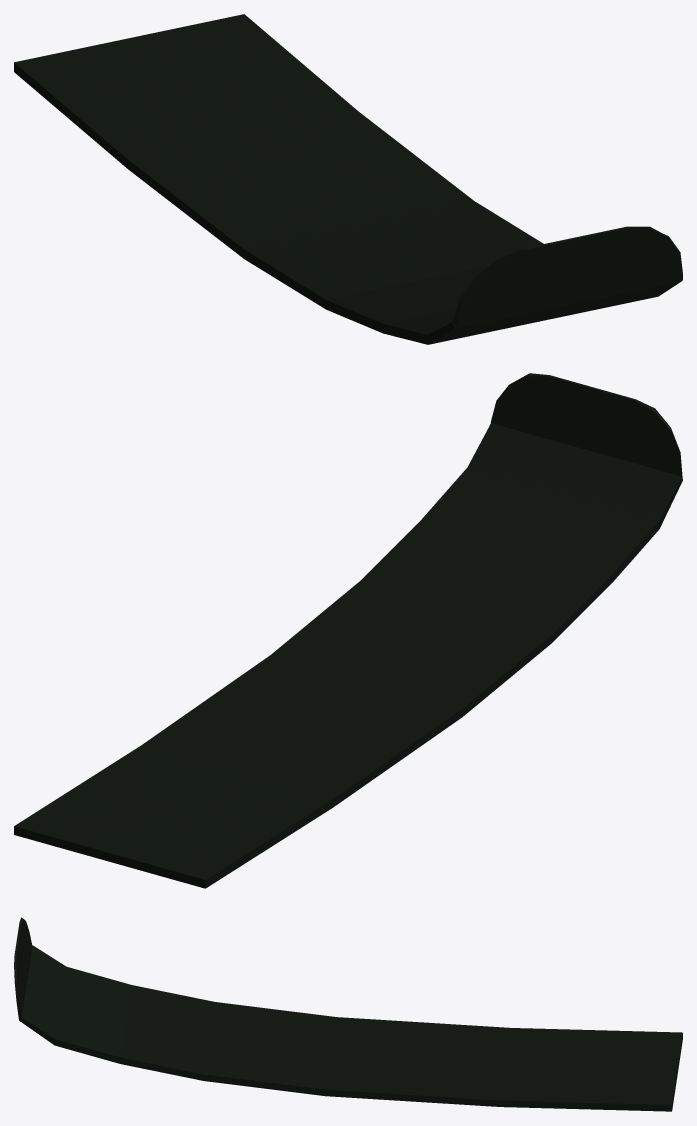
The model's file is floor_finish.glb.
3 renders of one model, top to bottom at view 1: azimuth 30°, elevation 25°; view 2: azimuth 150°, elevation 25°; view 3: azimuth 270°, elevation 25°, orthographic. The views are drawn at different scales.
Visible parts, largest first — view 1: FloorFinishMesh; view 2: FloorFinishMesh; view 3: FloorFinishMesh.
Boxes of the visible parts, x1,y1,x2,y2 form: FloorFinishMesh: (14, 14, 682, 344); FloorFinishMesh: (14, 373, 682, 888); FloorFinishMesh: (14, 917, 682, 1111).
Size of the model in its own units: 0.0278 by 0.0178 by 0.089.
Materials: 1 (1 with a texture image).
